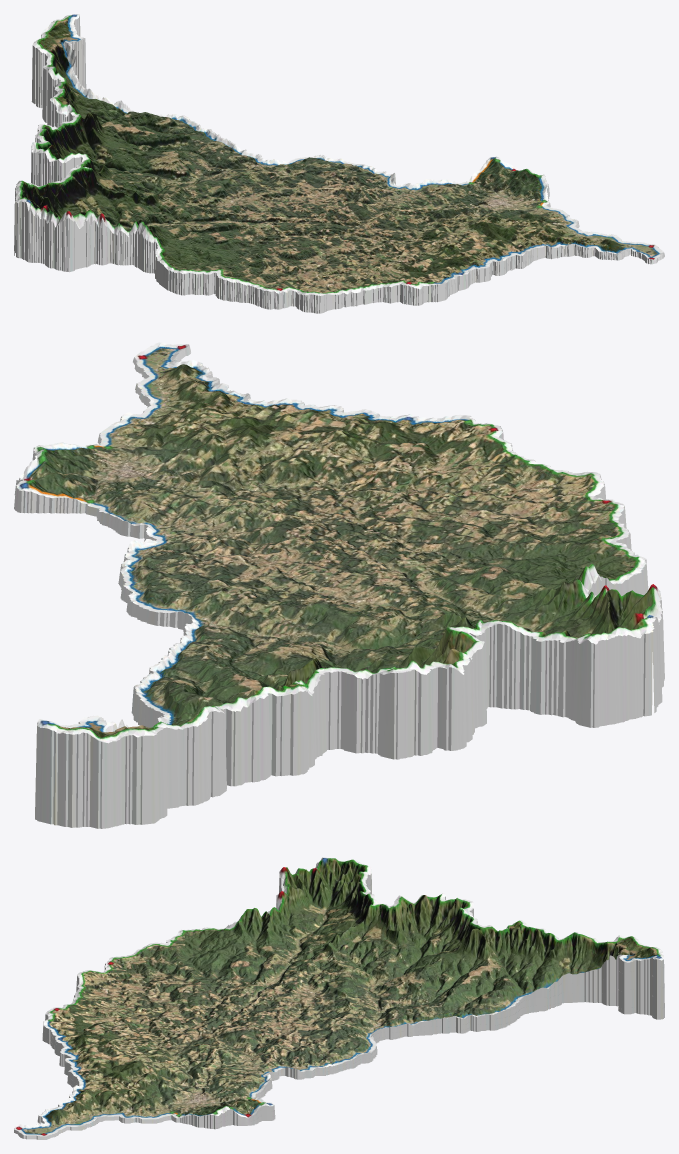
The picture shows the model from 3 angles, top to bottom: view 1: azimuth 30°, elevation 25°; view 2: azimuth 150°, elevation 25°; view 3: azimuth 270°, elevation 25°; orthographic projection. The views are drawn at different scales.
Bounding box in the file's own units: 0.9997 × 0.1224 × 1.2.
1 material, 1 textured.
